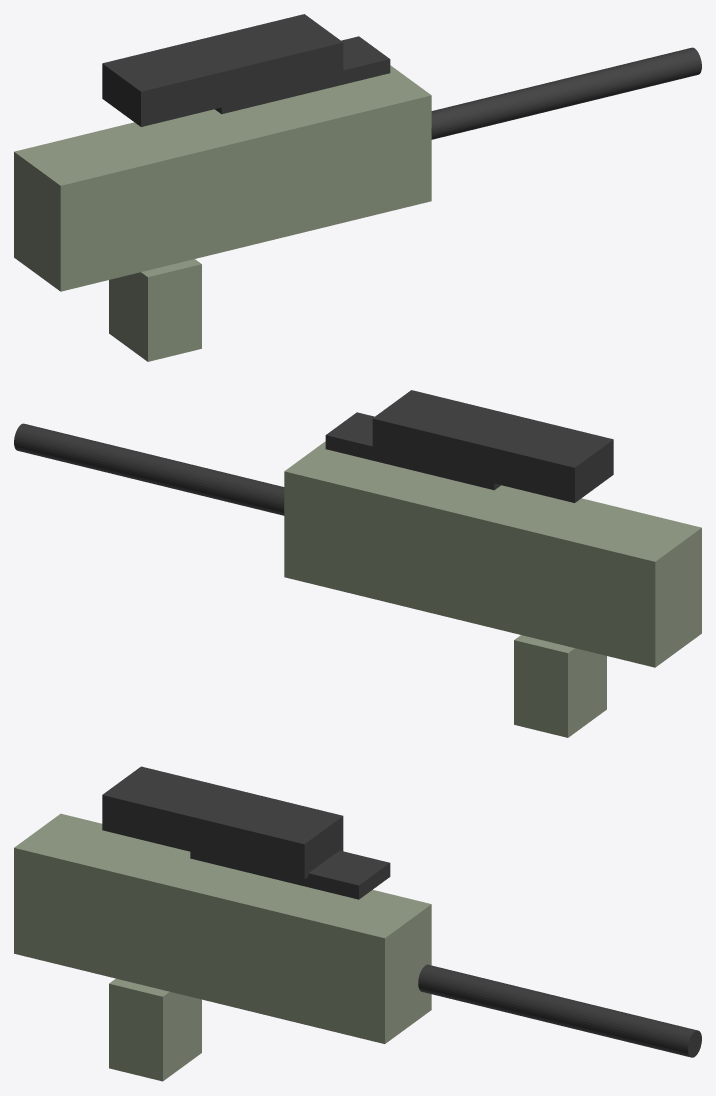
3 renders of one model, top to bottom at view 1: azimuth 30°, elevation 25°; view 2: azimuth 150°, elevation 25°; view 3: azimuth 330°, elevation 25°, orthographic.
Parts seen in each view (by area): view 1: Cube; view 2: Cube; view 3: Cube.
Part boxes in pixels (<box>): Cube: <box>14,14,701,361</box>; Cube: <box>14,390,701,737</box>; Cube: <box>14,766,701,1081</box>.
Bounding box in the file's own units: 0.975 × 0.385 × 0.12.
